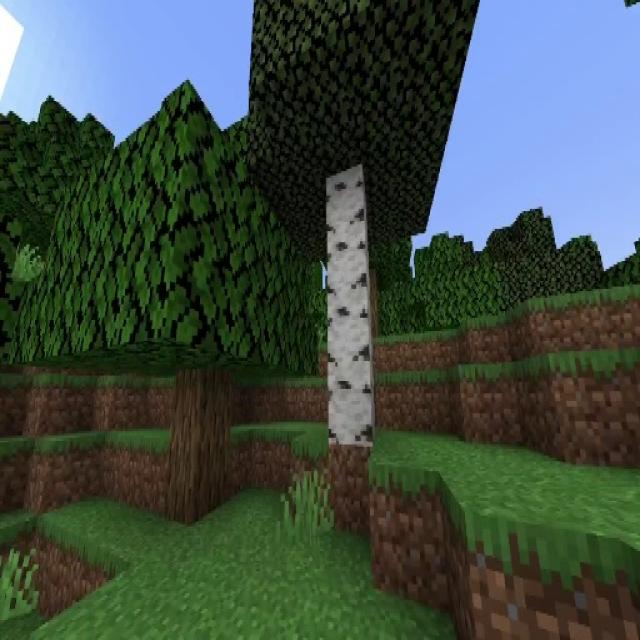birch: (249, 0, 447, 449)
birch_log: (325, 171, 373, 446)
oak_log: (27, 81, 310, 526), (165, 368, 234, 519)
